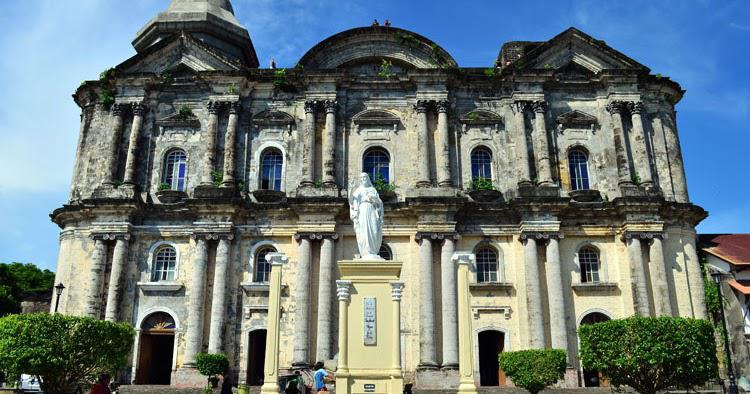taal_basilica_church_taal_batangas: (48, 2, 714, 387)
